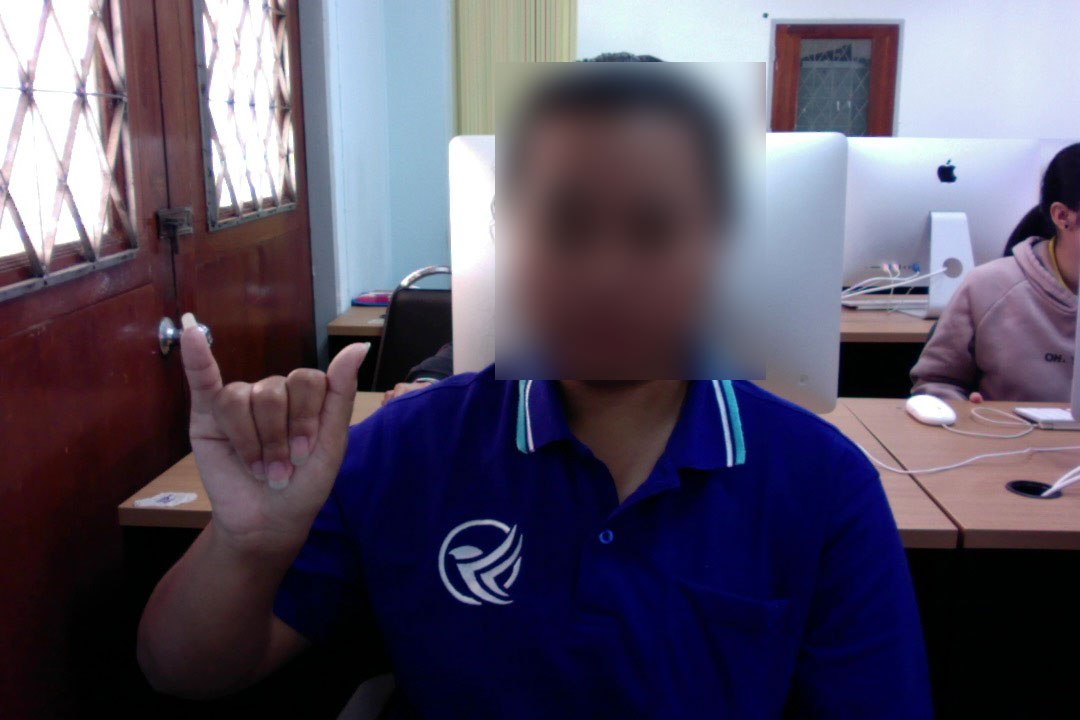yor: (170, 301, 375, 558)
